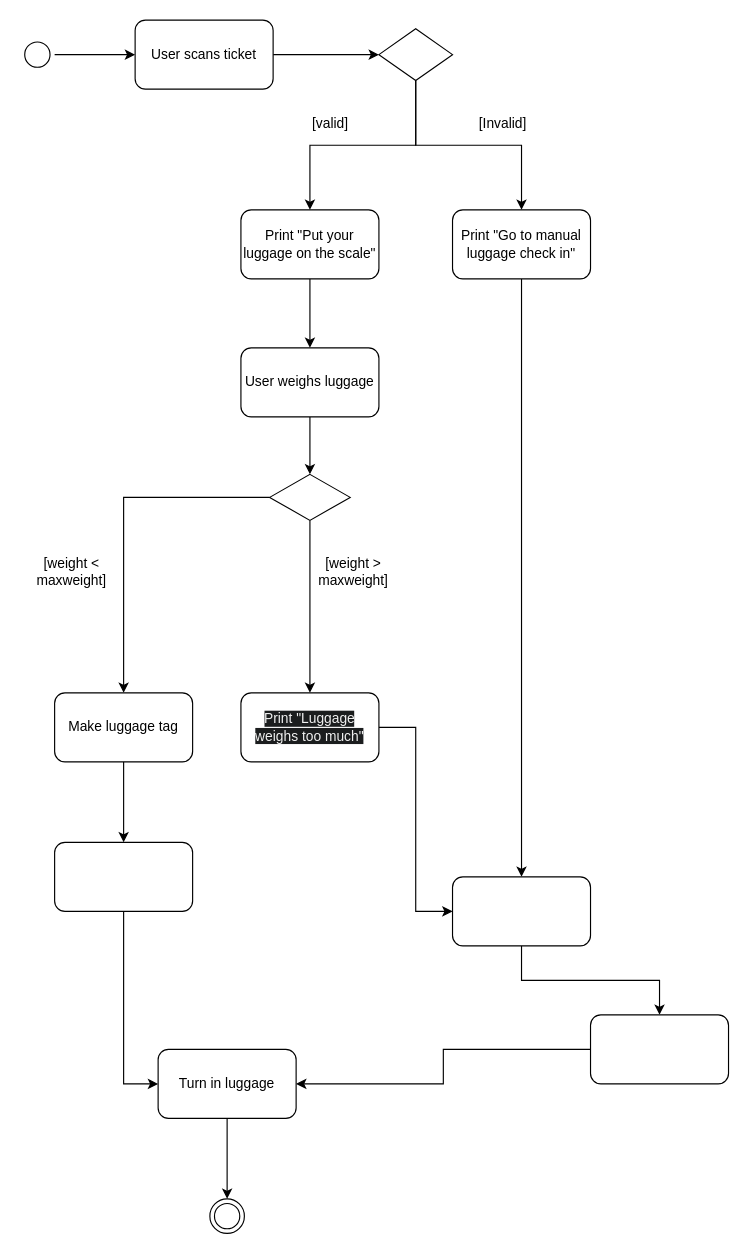
Some shapes in this 749 by 1254 pixel diagram are drawn without their labels. The centre of each missing label's shape, as x and y in pixels:
Staff weighs luggage: [659,1049]
User attaches tag: [123,876]
User goes to manned counter: [521,911]
